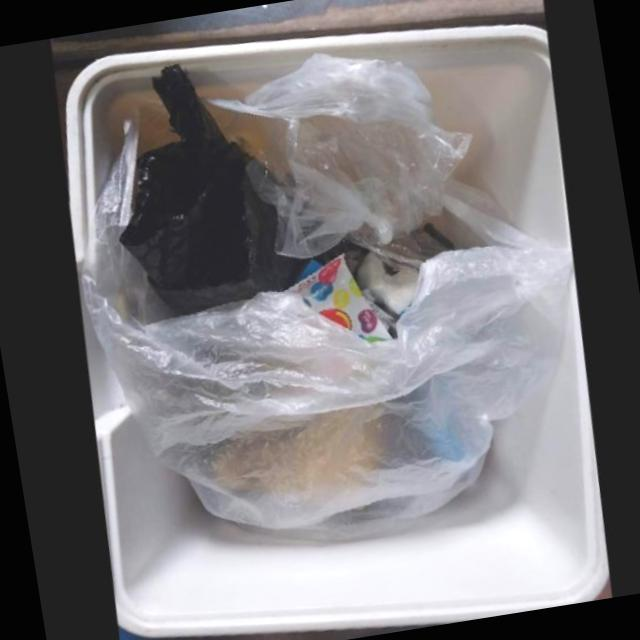bao_bi_thuc_pham: (294, 253, 391, 342)
tui_ni_long: (81, 53, 574, 533), (118, 65, 310, 316)
